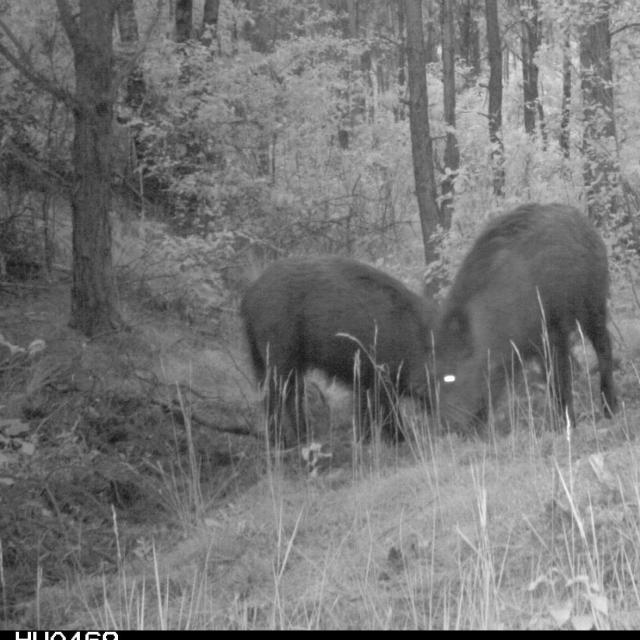pig: (422, 152, 622, 522), (215, 169, 434, 480)
